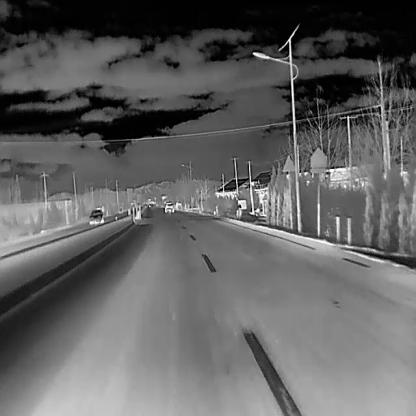car: (89, 208, 104, 225), (164, 200, 174, 214)
